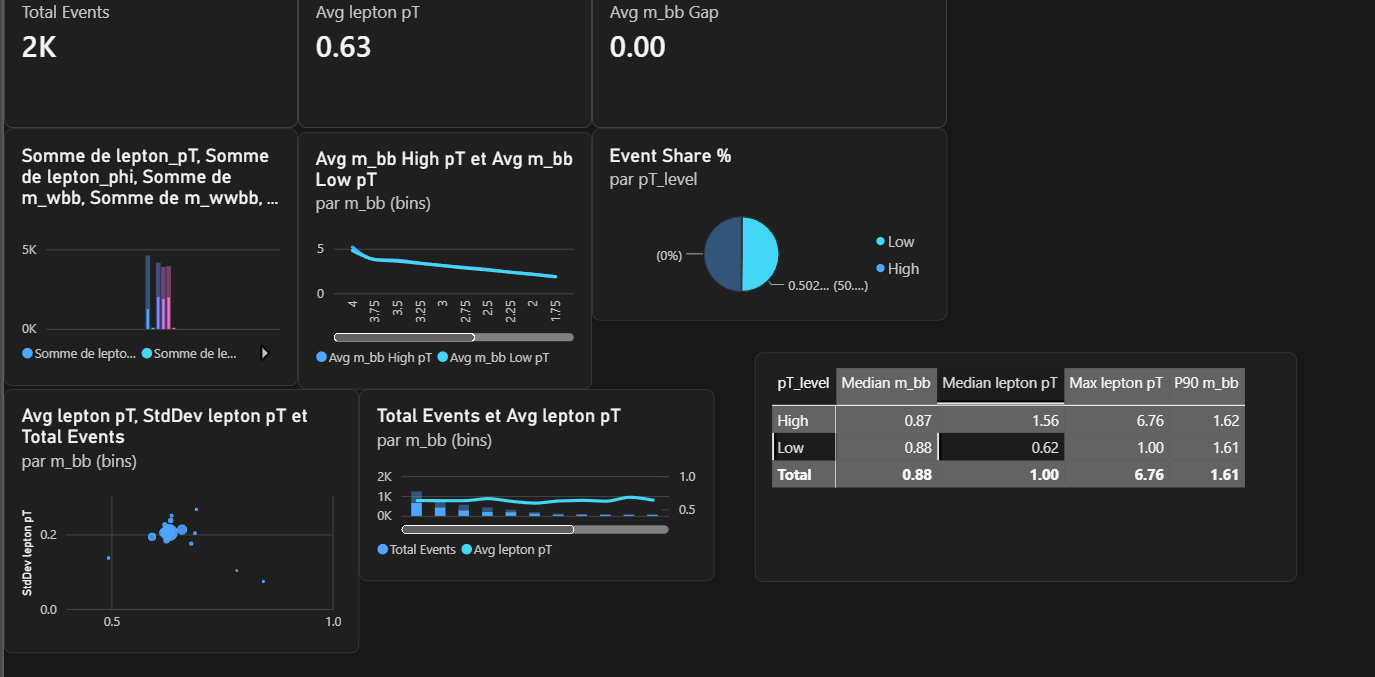

What the dashboard file says about the page in this screenshot:
{"tool":"powerbi","page":{"name":"Page 1","canvas":[1920,1080],"ordinal":0},"visuals":[{"type":"clusteredColumnChart","fields":{"Y":["Sum(HIGGS_sample_1pct.lepton_pT)","Sum(HIGGS_sample_1pct.lepton_phi)","Sum(HIGGS_sample_1pct.m_wbb)","Sum(HIGGS_sample_1pct.m_wwbb)","HIGGS_sample_1pct.Total Events","Sum(HIGGS_sample_1pct.missing_energy_phi)"]},"box":[0,184,280,245],"z":2},{"type":"cardVisual","fields":{"Data":["HIGGS_sample_1pct.Avg m_bb Gap"]},"box":[560,0,338.3,183.3],"z":3},{"type":"cardVisual","fields":{"Data":["HIGGS_sample_1pct.Total Events"]},"box":[0,0,280,183],"z":4},{"type":"cardVisual","fields":{"Data":["HIGGS_sample_1pct.Avg lepton pT"]},"box":[280,0,280,183],"z":5},{"type":"lineChart","fields":{"Category":["HIGGS_sample_1pct.m_bb (bins)"],"Y":["HIGGS_sample_1pct.Avg m_bb High pT","HIGGS_sample_1pct.Avg m_bb Low pT"]},"box":[280,186,280,245],"z":9},{"type":"pieChart","fields":{"Category":["HIGGS_sample_1pct.pT_level"],"Y":["HIGGS_sample_1pct.Event Share %"]},"box":[560,184,338,183],"z":11},{"type":"scatterChart","fields":{"Category":["HIGGS_sample_1pct.m_bb (bins)"],"Size":["HIGGS_sample_1pct.Total Events"],"X":["HIGGS_sample_1pct.Avg lepton pT"],"Y":["HIGGS_sample_1pct.StdDev lepton pT"]},"box":[0,431.7,338.3,251.7],"z":12},{"type":"lineStackedColumnComboChart","fields":{"Category":["HIGGS_sample_1pct.m_bb (bins)"],"Y":["HIGGS_sample_1pct.Total Events"],"Y2":["HIGGS_sample_1pct.Avg lepton pT"]},"box":[338.3,431.7,338,183],"z":13},{"type":"pivotTable","fields":{"Rows":["HIGGS_sample_1pct.pT_level"],"Values":["HIGGS_sample_1pct.Median m_bb","HIGGS_sample_1pct.Median lepton pT","HIGGS_sample_1pct.Max lepton pT","HIGGS_sample_1pct.P90 m_bb"]},"box":[715,396.7,516.7,218.3],"z":14}]}

Visuals, with their boxes on the page's 1920x1080 design canvas (x1, y1, x2, y2). These are canvas units, not pixel positions in the 1375x677 screenshot, which may show the page scaled, cropped or inside an application window:
clusteredColumnChart - Sum(HIGGS_sample_1pct.lepton_pT) x Sum(HIGGS_sample_1pct.lepton_phi): rect(0, 184, 280, 429)
cardVisual - HIGGS_sample_1pct.Avg m_bb Gap: rect(560, 0, 898, 183)
cardVisual - HIGGS_sample_1pct.Total Events: rect(0, 0, 280, 183)
cardVisual - HIGGS_sample_1pct.Avg lepton pT: rect(280, 0, 560, 183)
lineChart - HIGGS_sample_1pct.m_bb (bins) x HIGGS_sample_1pct.Avg m_bb High pT: rect(280, 186, 560, 431)
pieChart - HIGGS_sample_1pct.pT_level x HIGGS_sample_1pct.Event Share %: rect(560, 184, 898, 367)
scatterChart - HIGGS_sample_1pct.m_bb (bins) x HIGGS_sample_1pct.Total Events: rect(0, 432, 338, 683)
lineStackedColumnComboChart - HIGGS_sample_1pct.m_bb (bins) x HIGGS_sample_1pct.Total Events: rect(338, 432, 676, 615)
pivotTable - HIGGS_sample_1pct.pT_level x HIGGS_sample_1pct.Median m_bb: rect(715, 397, 1232, 615)
